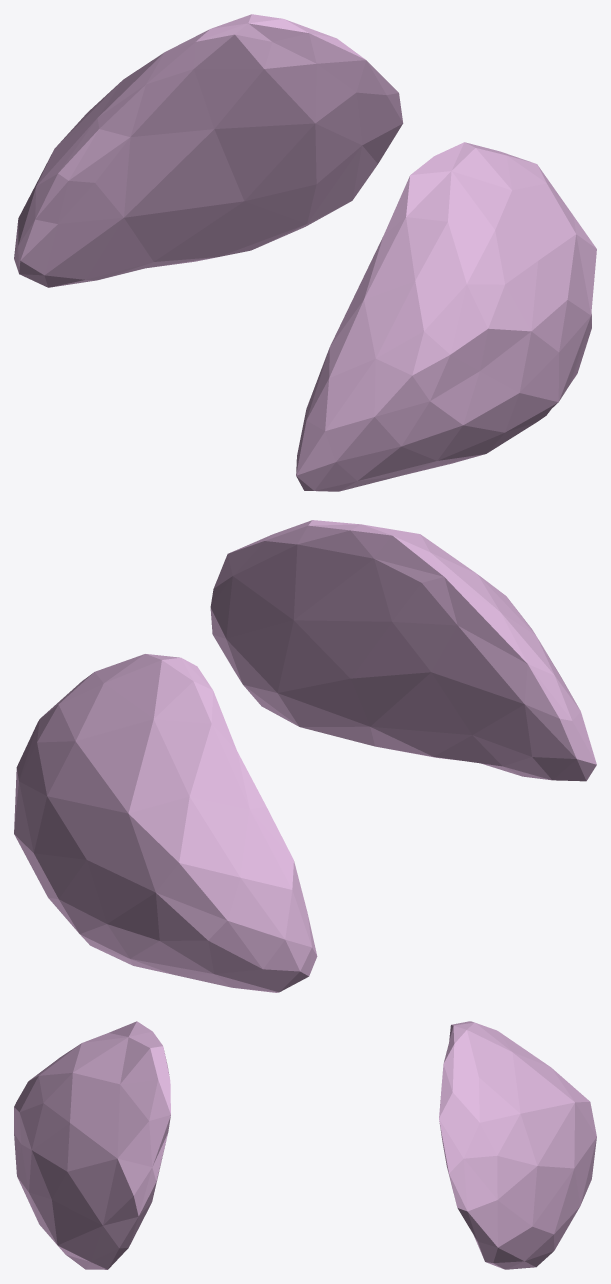
The picture shows the model from 3 angles, top to bottom: view 1: azimuth 30°, elevation 25°; view 2: azimuth 150°, elevation 25°; view 3: azimuth 270°, elevation 25°; orthographic projection. The views are drawn at different scales.
Parts seen in each view (by area): view 1: 607344846.obj; view 2: 607344846.obj; view 3: 607344846.obj.
Boxes of the visible parts, x1,y1,x2,y2 form: 607344846.obj: (14,14,596,491); 607344846.obj: (14,520,596,992); 607344846.obj: (14,1021,596,1269).
Bounding box in the file's own units: 520 × 396 × 904.
